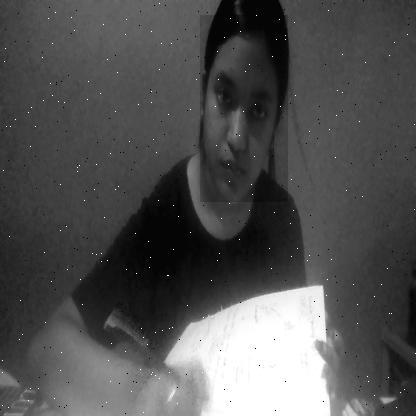Normal: (200, 15, 288, 202)
